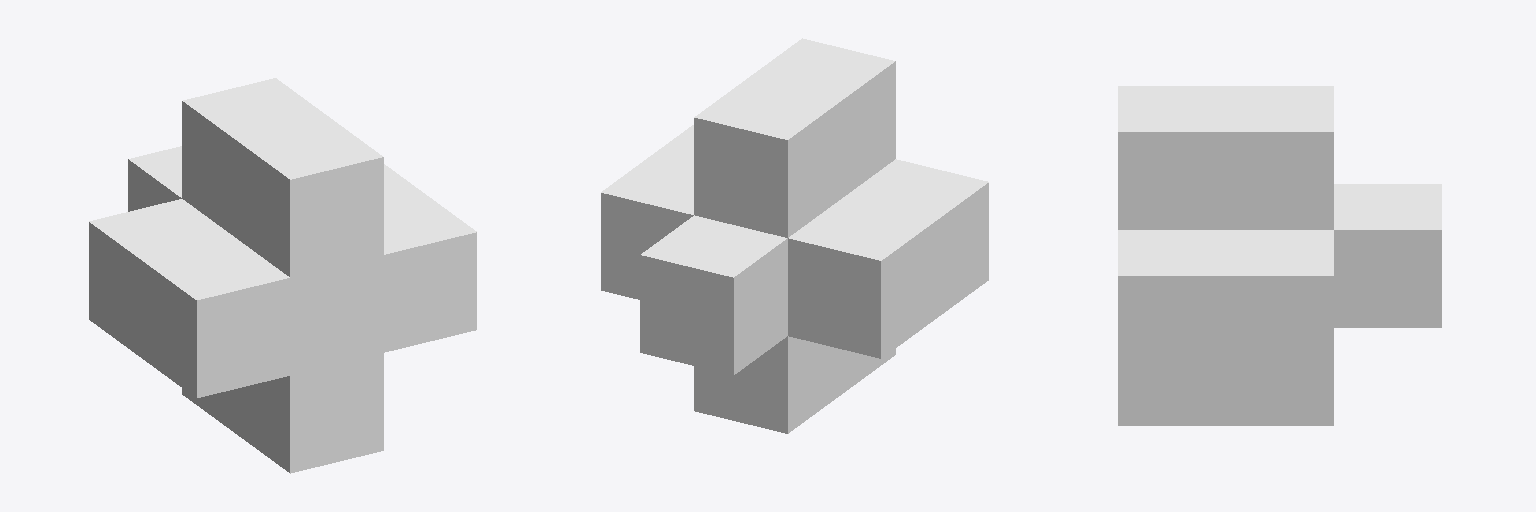
File: oneshot.obj
The picture shows the model from 3 angles: view 1: azimuth 30°, elevation 25°; view 2: azimuth 150°, elevation 25°; view 3: azimuth 270°, elevation 25°; orthographic projection.
Parts seen in each view (by area): view 1: object 1; view 2: object 1; view 3: object 1.
Part boxes in pixels (bbox=[...]): object 1: bbox=[89, 78, 476, 473]; object 1: bbox=[601, 38, 988, 433]; object 1: bbox=[1118, 86, 1441, 425].
Size of the model in its own units: 0.3 by 0.3 by 0.3.